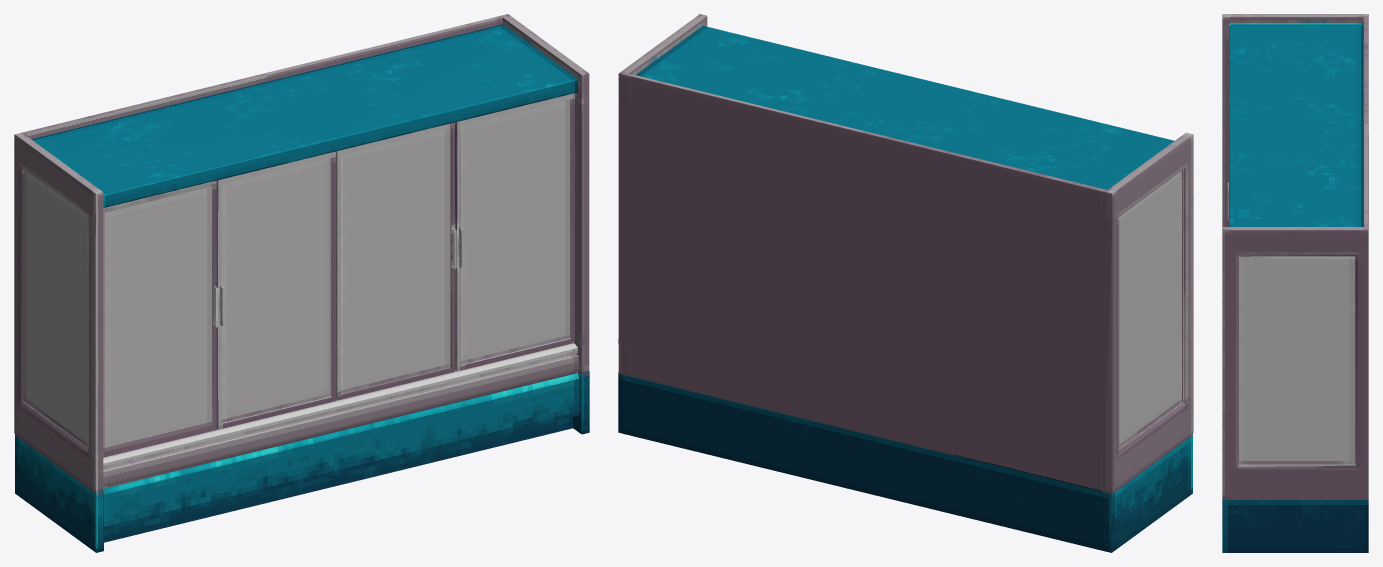
The model's file is shop_counter.glb.
3 renders of one model, left to right at view 1: azimuth 30°, elevation 25°; view 2: azimuth 150°, elevation 25°; view 3: azimuth 270°, elevation 25°, orthographic. The views are drawn at different scales.
Visible parts, largest first — view 1: mesh; view 2: mesh; view 3: mesh.
Boxes of the visible parts, x1,y1,x2,y2 form: mesh: (14, 14, 589, 552); mesh: (618, 14, 1193, 552); mesh: (1222, 14, 1368, 552).
Bounding box in the file's own units: 1.38 × 0.96 × 0.3944.
Materials: 1 (1 with a texture image).
